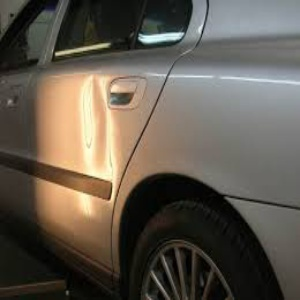door: (47, 75, 134, 211)
